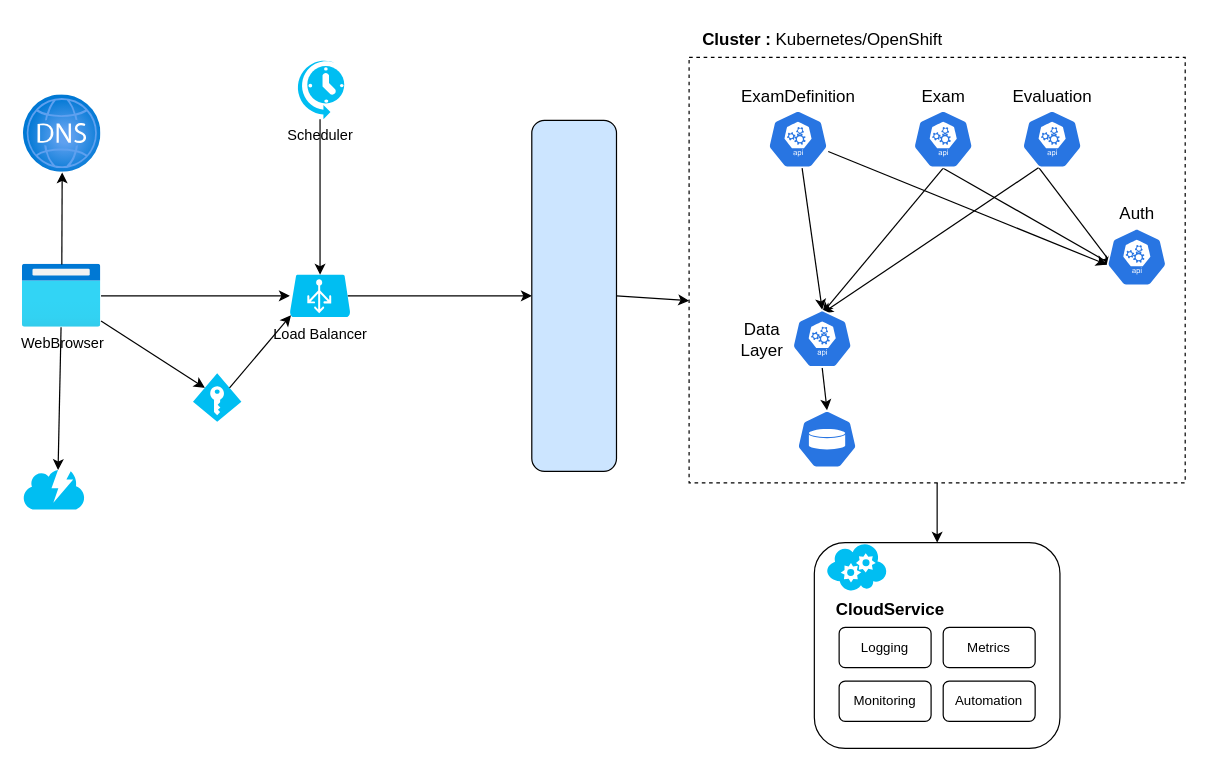
The diagram is 1206 pixels wide and 770 high, and some of its shapes have lost their labels. Each missing label, with the centre of its shape:
"API Gateway" belongs at pixel 573 295.
"CDN" belongs at pixel 53 489.
"DB" belongs at pixel 826 438.
"Identity Server" belongs at pixel 216 397.
